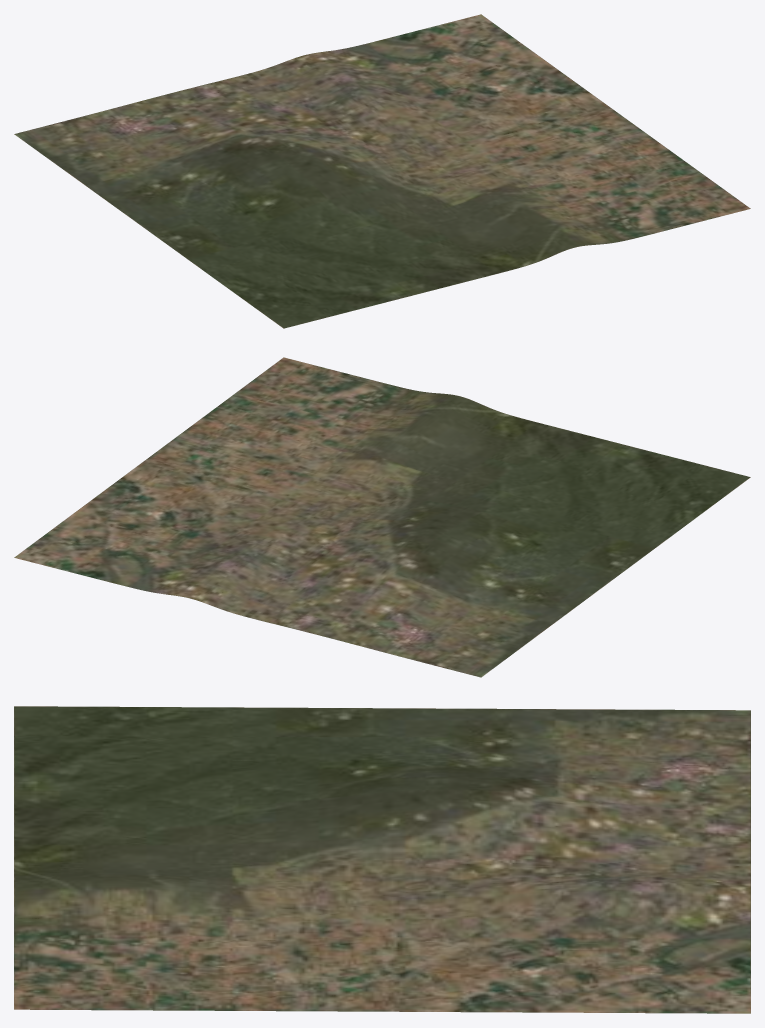
3 renders of one model, top to bottom at view 1: azimuth 30°, elevation 25°; view 2: azimuth 150°, elevation 25°; view 3: azimuth 270°, elevation 25°, orthographic. The views are drawn at different scales.
Visible parts, largest first — view 1: geometry_0; view 2: geometry_0; view 3: geometry_0.
Boxes of the visible parts, x1=… form: geometry_0: x1=14, y1=14, x2=750, y2=328; geometry_0: x1=14, y1=357, x2=750, y2=677; geometry_0: x1=14, y1=706, x2=750, y2=1013.
Bounding box in the file's own units: 10000 × 386 × 10000.
Materials: 1 (1 with a texture image).
